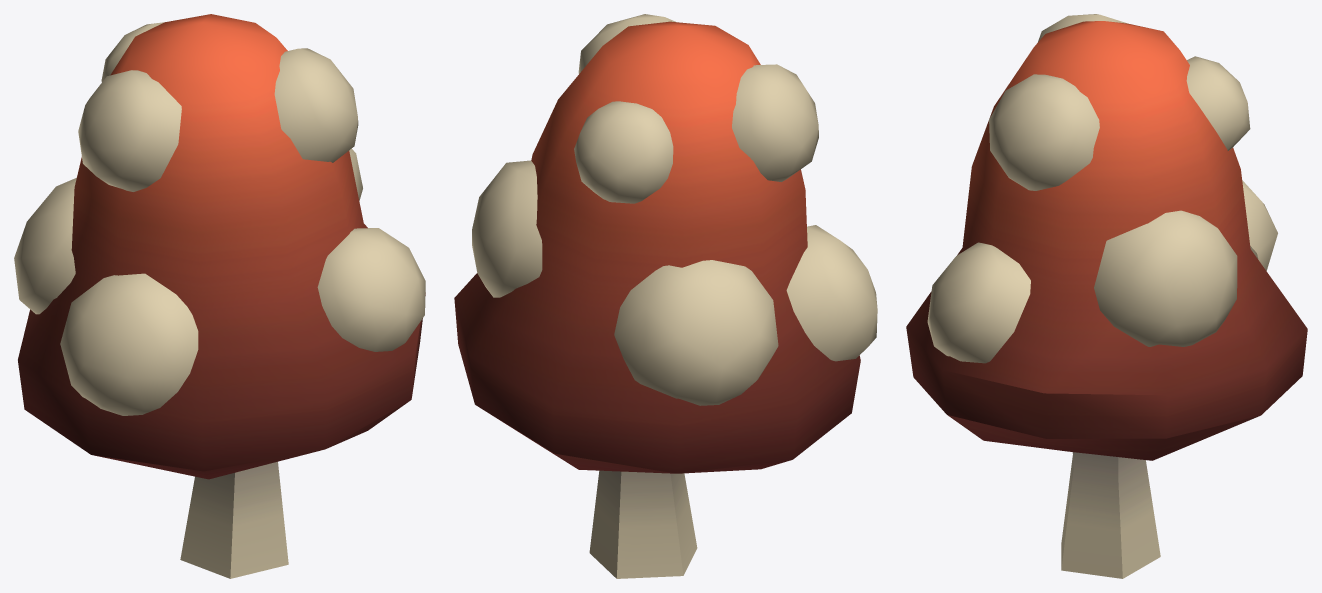
The picture shows the model from 3 angles, left to right: view 1: azimuth 30°, elevation 25°; view 2: azimuth 150°, elevation 25°; view 3: azimuth 270°, elevation 25°; orthographic projection. The views are drawn at different scales.
Visible parts, largest first — view 1: mff_plant_mushroom_red; view 2: mff_plant_mushroom_red; view 3: mff_plant_mushroom_red.
Part boxes in pixels (left/top/right/bottom): mff_plant_mushroom_red: left=14, top=14, right=425, bottom=578; mff_plant_mushroom_red: left=454, top=14, right=877, bottom=578; mff_plant_mushroom_red: left=906, top=14, right=1307, bottom=578.
Bounding box in the file's own units: 0.3783 × 0.5526 × 0.3872.
1 material, 1 textured.
